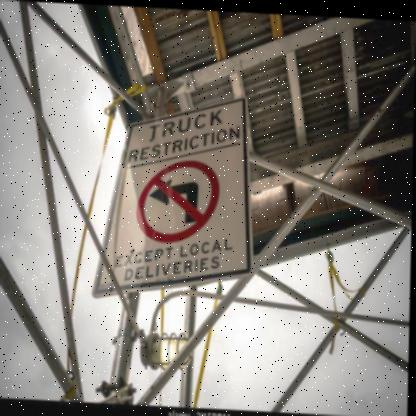No left turn: (131, 153, 223, 236)
